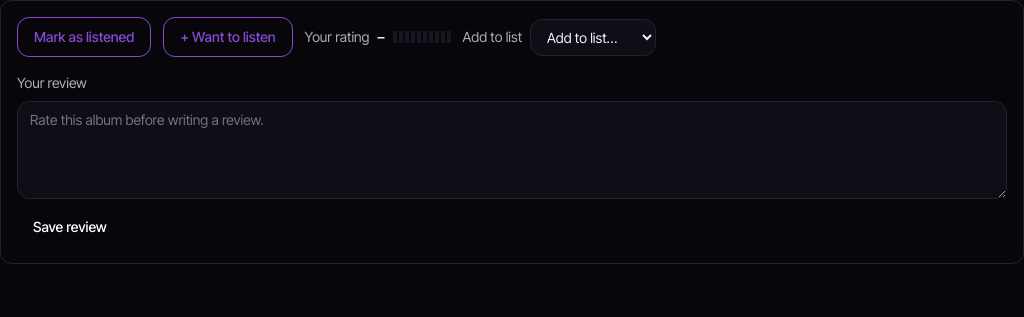
Test: AlbumActions › renders the error banner when a mutation rejects, and does not refresh
The width and height of the screenshot is (1024, 317).
Click the button "Mark as listened" at (84,37), box [17,17,151,57]
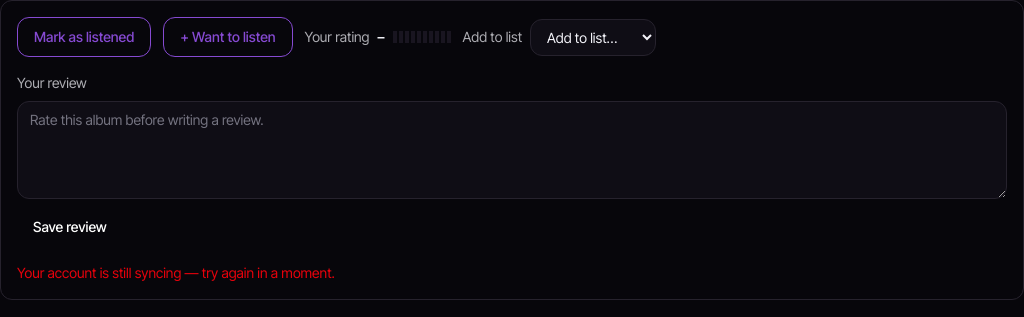
Expected: the message reads "Your account is still syncing — try again in a moment.", [17,264,335,281]
